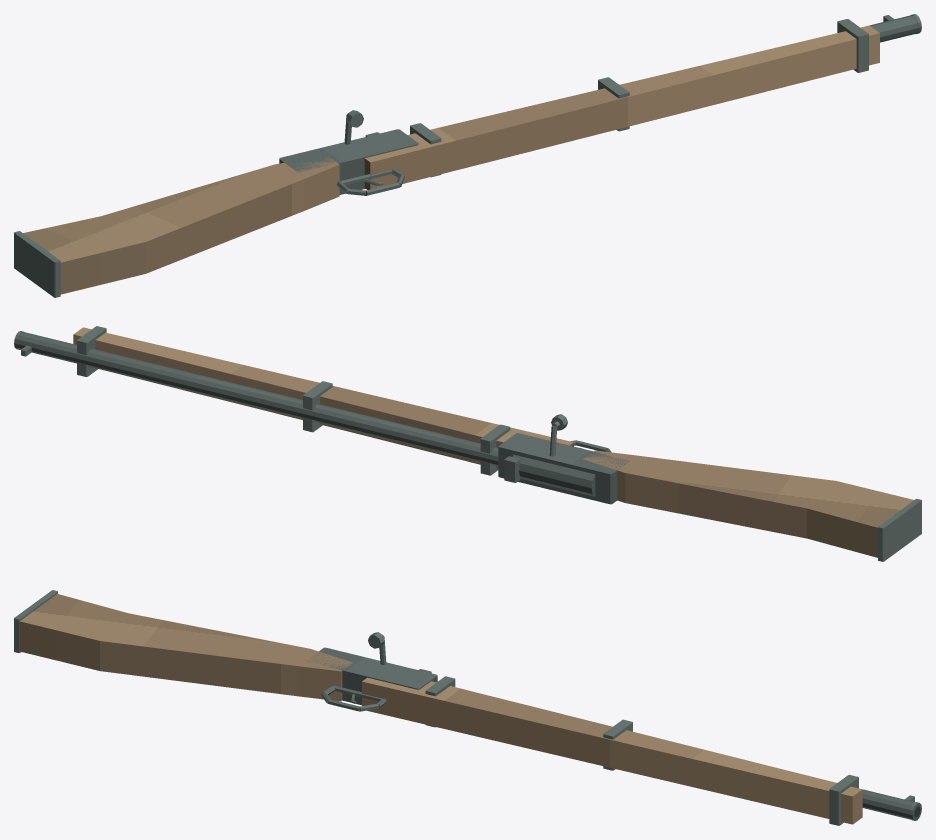
Rendered from weapon-chassepot.glb.
The picture shows the model from 3 angles, top to bottom: view 1: azimuth 30°, elevation 25°; view 2: azimuth 150°, elevation 25°; view 3: azimuth 330°, elevation 25°; orthographic projection. The views are drawn at different scales.
Visible parts, largest first — view 1: weapon-chassepot/tapered-full-depth-forend, weapon-chassepot/shaped-solid-butt, weapon-chassepot/central-receiver, weapon-chassepot/butt-end-plate, weapon-chassepot/stock-band-2, weapon-chassepot/long-barrel; view 2: weapon-chassepot/shaped-solid-butt, weapon-chassepot/tapered-full-depth-forend, weapon-chassepot/long-barrel, weapon-chassepot/central-receiver, weapon-chassepot/receiver-top-cylinder, weapon-chassepot/butt-end-plate, weapon-chassepot/stock-band-2, weapon-chassepot/stock-band-0, weapon-chassepot/stock-band-1; view 3: weapon-chassepot/tapered-full-depth-forend, weapon-chassepot/shaped-solid-butt, weapon-chassepot/central-receiver, weapon-chassepot/long-barrel, weapon-chassepot/stock-band-2, weapon-chassepot/butt-end-plate.
Part boxes in pixels (left/top/right/bottom): weapon-chassepot/tapered-full-depth-forend: left=364, top=25, right=879, bottom=189; weapon-chassepot/shaped-solid-butt: left=23, top=156, right=339, bottom=294; weapon-chassepot/central-receiver: left=279, top=129, right=418, bottom=194; weapon-chassepot/butt-end-plate: left=14, top=231, right=60, bottom=297; weapon-chassepot/stock-band-2: left=837, top=19, right=868, bottom=72; weapon-chassepot/long-barrel: left=869, top=15, right=918, bottom=42; weapon-chassepot/shaped-solid-butt: left=583, top=450, right=913, bottom=557; weapon-chassepot/tapered-full-depth-forend: left=73, top=327, right=573, bottom=468; weapon-chassepot/long-barrel: left=17, top=332, right=498, bottom=466; weapon-chassepot/central-receiver: left=498, top=433, right=629, bottom=504; weapon-chassepot/receiver-top-cylinder: left=512, top=454, right=595, bottom=496; weapon-chassepot/butt-end-plate: left=878, top=499, right=921, bottom=561; weapon-chassepot/stock-band-2: left=77, top=326, right=106, bottom=376; weapon-chassepot/stock-band-0: left=480, top=424, right=510, bottom=475; weapon-chassepot/stock-band-1: left=303, top=381, right=332, bottom=432; weapon-chassepot/tapered-full-depth-forend: left=362, top=677, right=862, bottom=824; weapon-chassepot/shaped-solid-butt: left=19, top=594, right=352, bottom=701; weapon-chassepot/central-receiver: left=306, top=647, right=437, bottom=705; weapon-chassepot/long-barrel: left=862, top=789, right=914, bottom=819; weapon-chassepot/stock-band-2: left=829, top=775, right=858, bottom=825; weapon-chassepot/butt-end-plate: left=14, top=590, right=57, bottom=652.
Size of the model in its own units: 1.31 by 0.1 by 0.1515.
3 materials, 3 textured.
